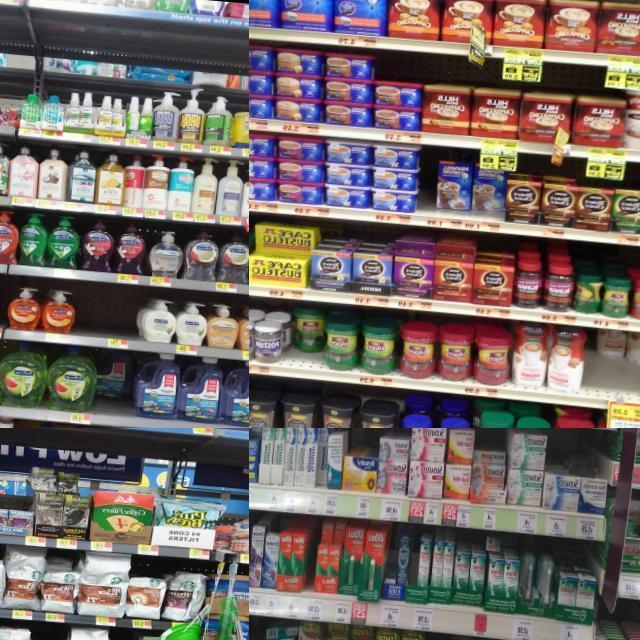Imprecise: (596, 327, 640, 405), (287, 302, 328, 374), (88, 348, 134, 411)
